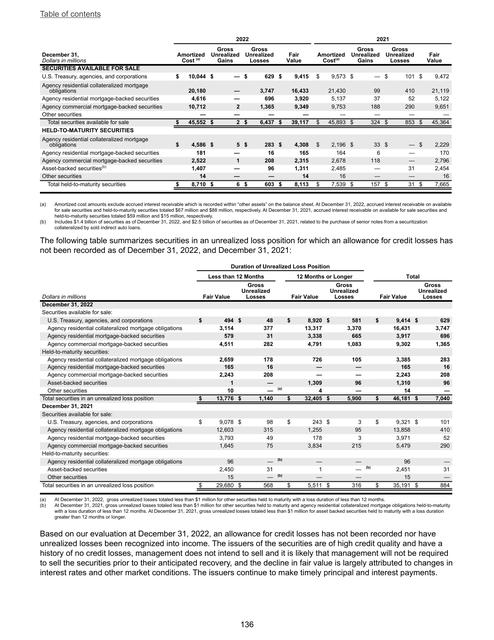box: (38, 262, 454, 496), (38, 35, 453, 197)
